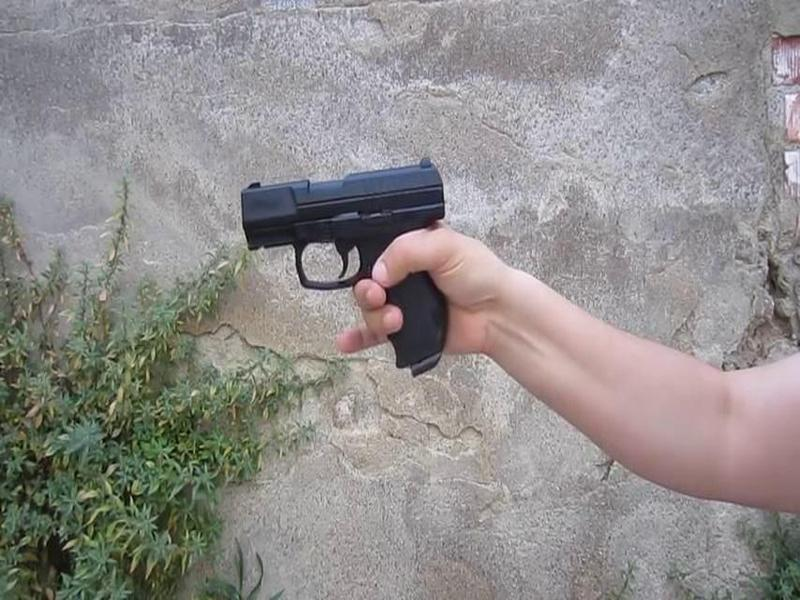Pistola: (225, 150, 461, 384)
